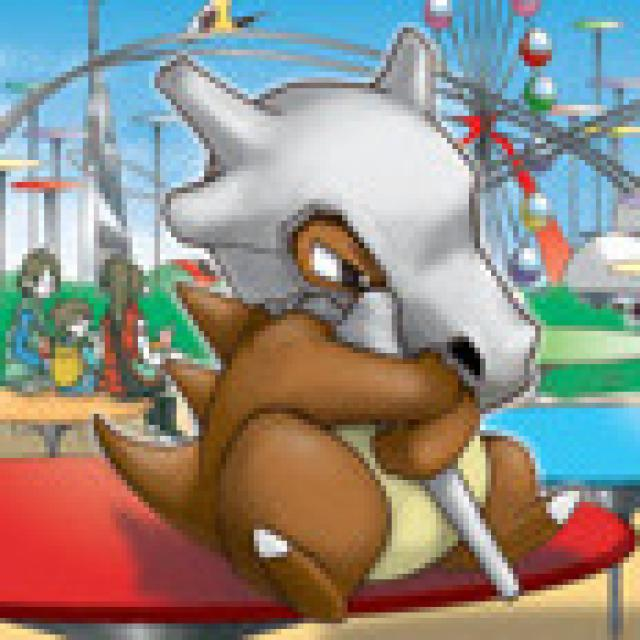Cubone: (150, 57, 550, 609)
